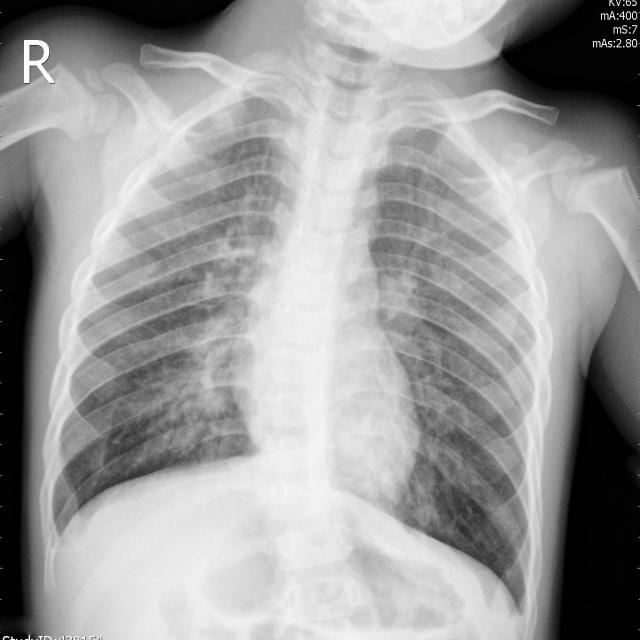low-pneumonia: (164, 71, 300, 182), (384, 276, 471, 437), (190, 186, 291, 306), (153, 321, 243, 455)
